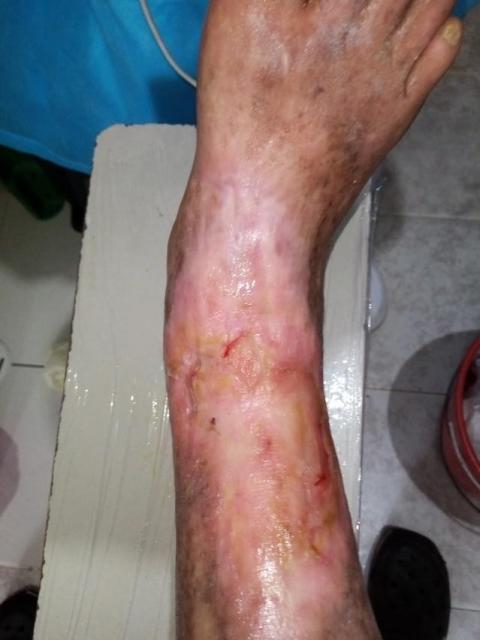wound: (176, 325, 348, 561)
